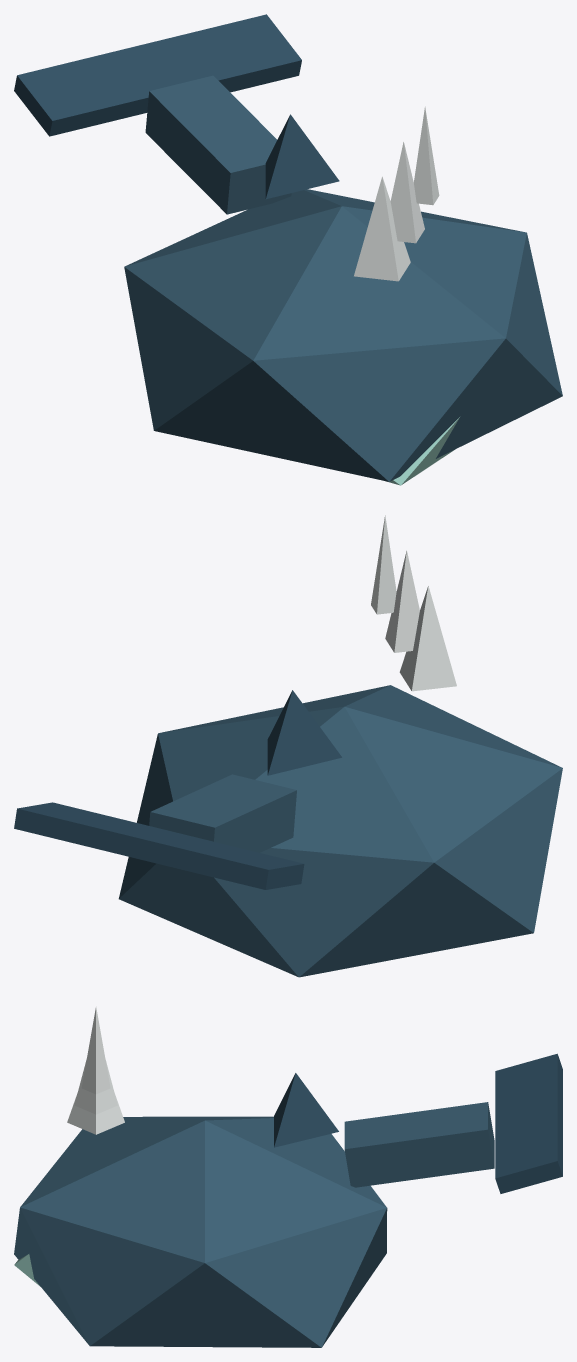
File: whale.glb
3 renders of one model, top to bottom at view 1: azimuth 30°, elevation 25°; view 2: azimuth 150°, elevation 25°; view 3: azimuth 270°, elevation 25°, orthographic. The views are drawn at different scales.
Parts seen in each view (by area): view 1: back, tail, tail_stem, fin, detail_spout0, detail_spout1, detail_spout2, detail_belly; view 2: back, tail, tail_stem, fin, detail_spout0, detail_spout1, detail_spout2; view 3: back, tail_stem, tail, fin, detail_spout2, detail_spout0, detail_spout1.
Part boxes in pixels (<box>): back: <box>124,189,562,481</box>; tail: <box>14,14,301,136</box>; tail_stem: <box>145,75,291,214</box>; fin: <box>265,114,339,199</box>; detail_spout0: <box>354,176,410,281</box>; detail_spout1: <box>390,142,424,243</box>; detail_spout2: <box>414,106,439,205</box>; detail_belly: <box>386,417,459,485</box>; back: <box>118,685,562,977</box>; tail: <box>14,802,304,889</box>; tail_stem: <box>149,774,296,852</box>; fin: <box>267,690,341,775</box>; detail_spout0: <box>399,586,456,691</box>; detail_spout1: <box>385,550,419,652</box>; detail_spout2: <box>371,515,396,614</box>; back: <box>14,1116,387,1347</box>; tail_stem: <box>344,1102,494,1187</box>; tail: <box>495,1053,562,1193</box>; fin: <box>274,1073,338,1147</box>; detail_spout2: <box>81,1006,110,1094</box>; detail_spout0: <box>67,1093,124,1134</box>; detail_spout1: <box>74,1060,117,1114</box>.
Bounding box in the file's own units: 1.05 × 1.04 × 1.51.
